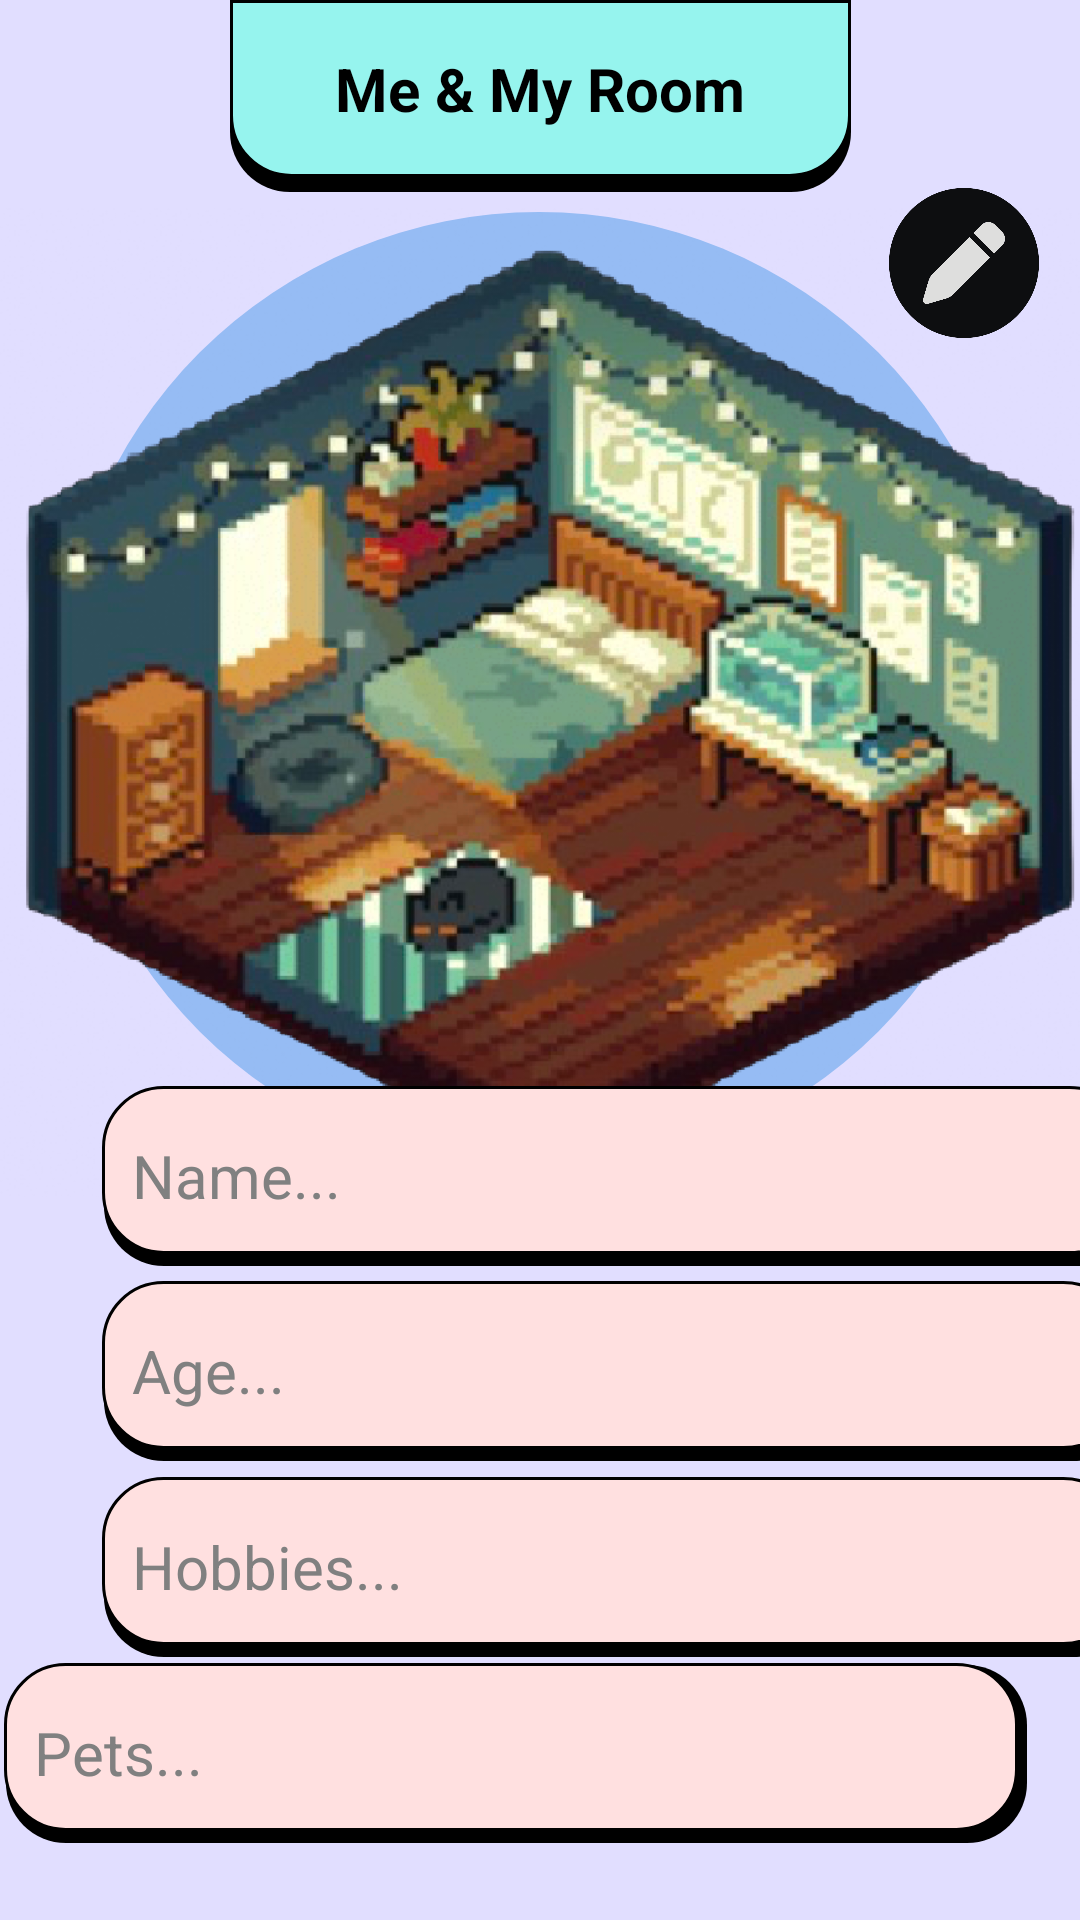

Icon click points for this 1080px×1920px phone screenshot, format point (x, y):
Edit room button: point (964, 263)
